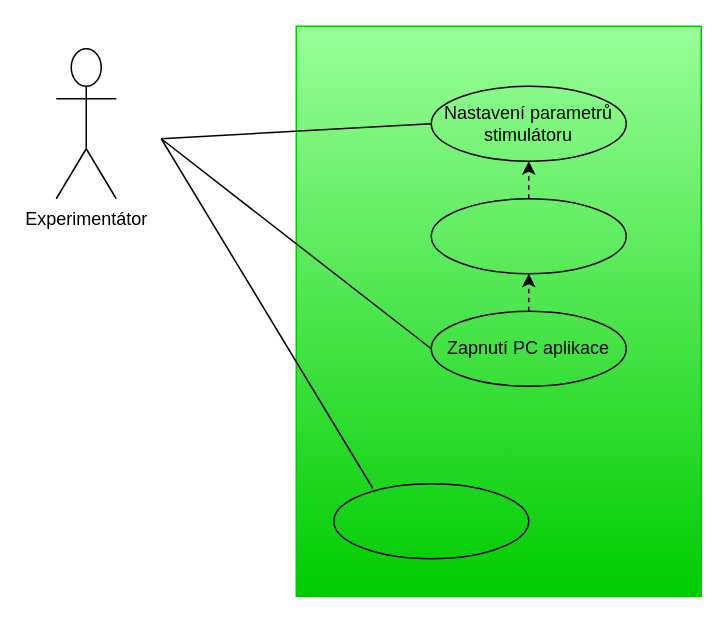
Image size: 728x623. Some labels were removed from this diagram. Each missing label, with the box of its shape:
Navázání komunikace: (430, 197, 626, 274)
Spuštění testu: (332, 482, 529, 559)
